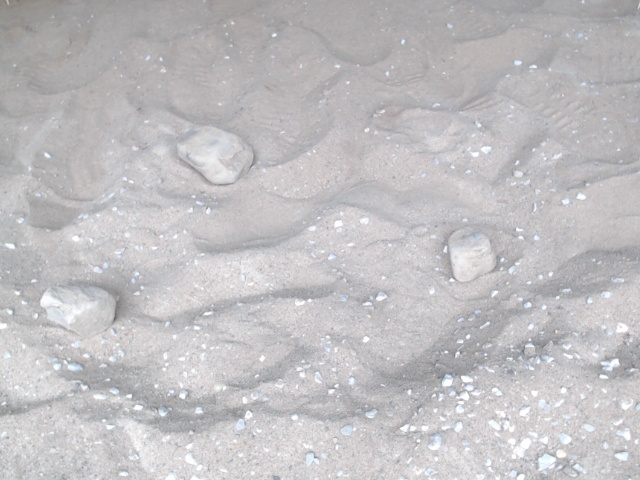rock: (172, 124, 259, 191), (36, 279, 122, 342), (443, 222, 501, 287)
